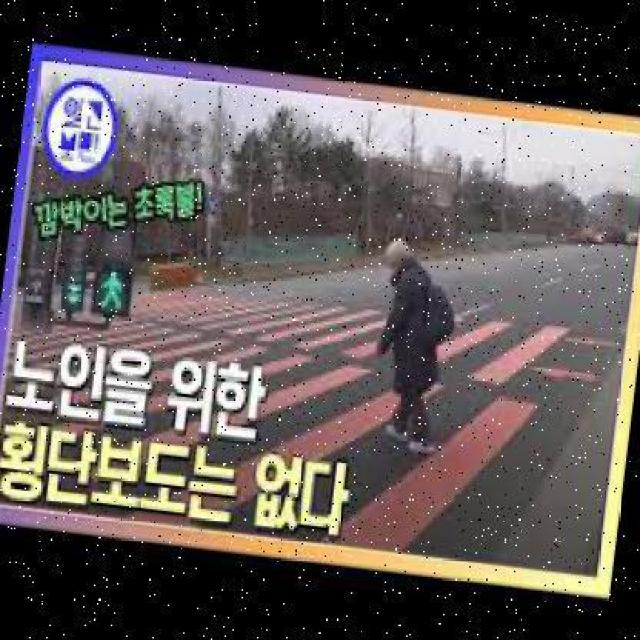Person: (358, 233, 460, 453)
